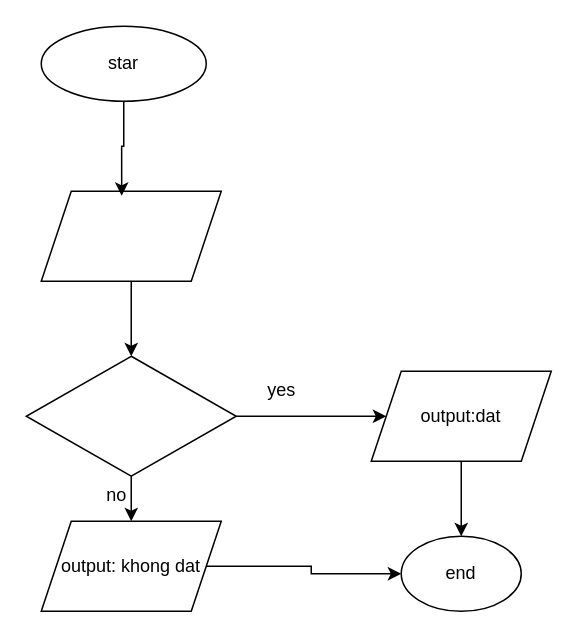
Image size: 578x638. Some labels were removed from this diagram. The shapes that lost their labels are listed below. From the top down, each one's box as (x1, y1, x2, y2) in pixels, then its label:
(40, 190, 221, 281): input diemso
(25, 355, 236, 476): if diemso>=5
